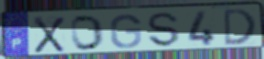4: (187, 9, 218, 47)
D: (223, 7, 258, 47)
G: (108, 13, 143, 50)
O: (70, 14, 106, 52)
S: (146, 11, 182, 48)
X: (32, 16, 67, 55)
